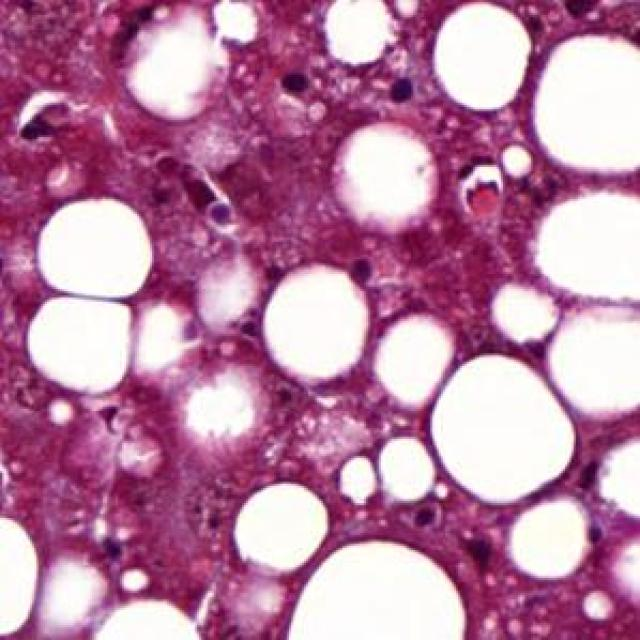steatosis: (420, 349, 584, 503), (255, 253, 372, 381), (43, 188, 145, 302), (227, 477, 334, 576)
